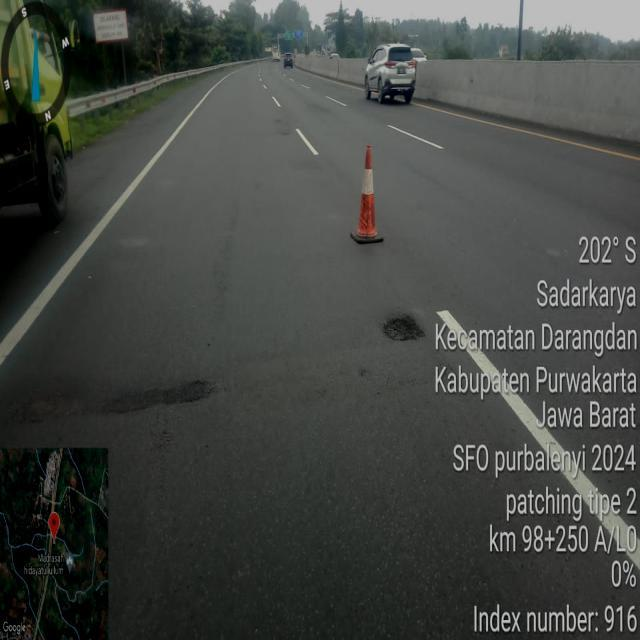Buraco: (379, 312, 430, 344)
